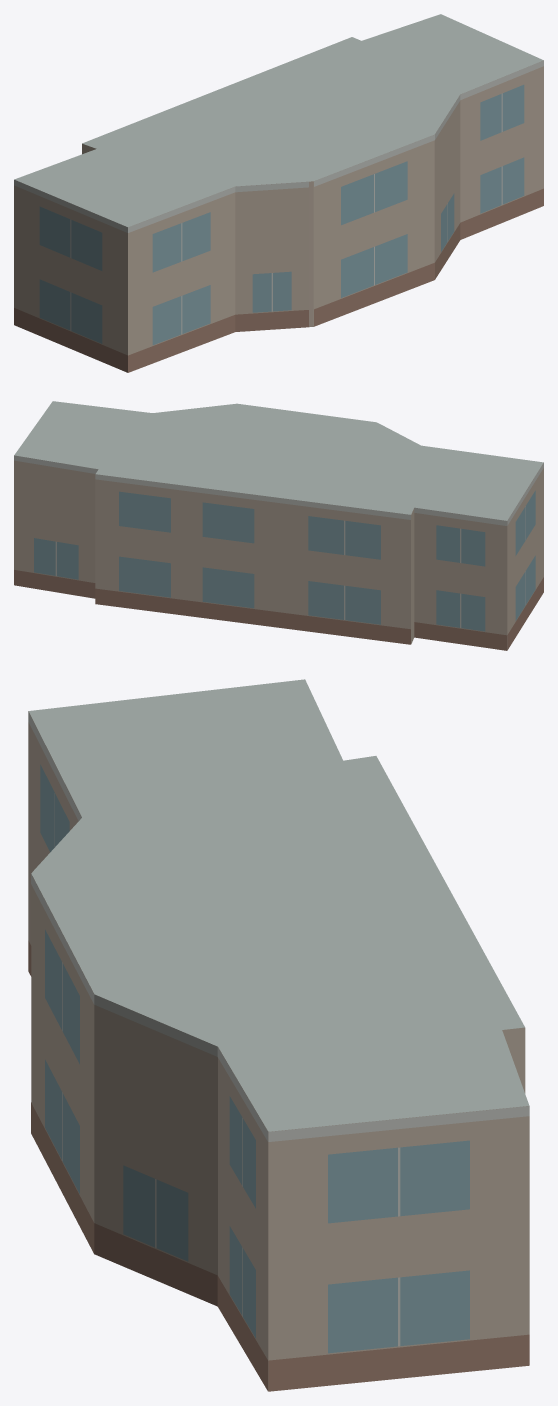
File: survey-upis-33003843.glb
3 views of the same model, one above another, from view 1: azimuth 30°, elevation 25°; view 2: azimuth 150°, elevation 25°; view 3: azimuth 270°, elevation 25° (orthographic). The views are drawn at different scales.
Visible parts, largest first — view 1: survey-upis-33003843.tmp; view 2: survey-upis-33003843.tmp; view 3: survey-upis-33003843.tmp.
Part boxes in pixels (x1=…): survey-upis-33003843.tmp: x1=14, y1=14, x2=543, y2=372; survey-upis-33003843.tmp: x1=14, y1=401, x2=543, y2=650; survey-upis-33003843.tmp: x1=28, y1=679, x2=529, y2=1391.
Bounding box in the file's own units: 22.79 × 6.1 × 10.67.
